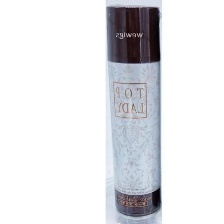aerosol_cans: (103, 3, 167, 220)
